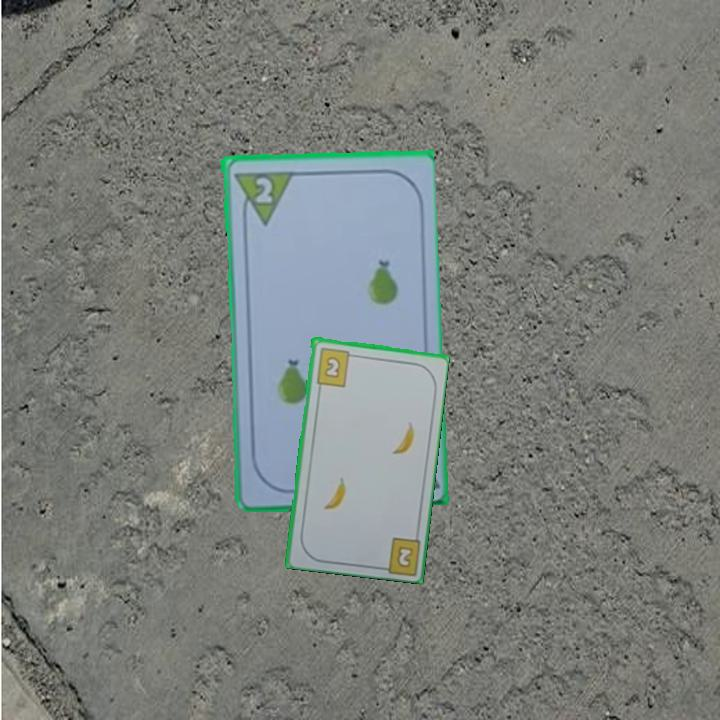2b: (313, 344, 358, 389), (393, 542, 416, 571)
2p: (229, 167, 294, 228)
